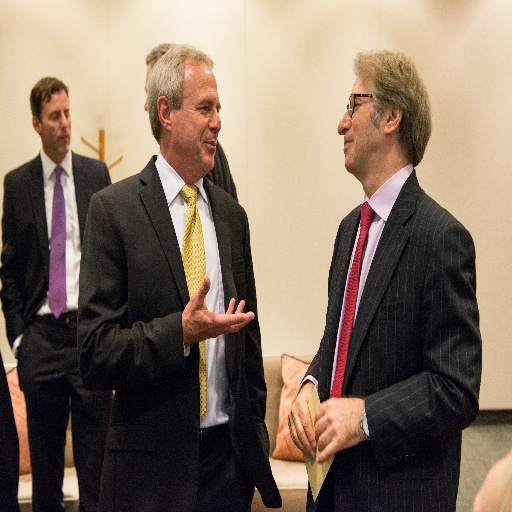hand: (178, 271, 256, 347), (315, 396, 364, 464), (286, 388, 317, 460)
